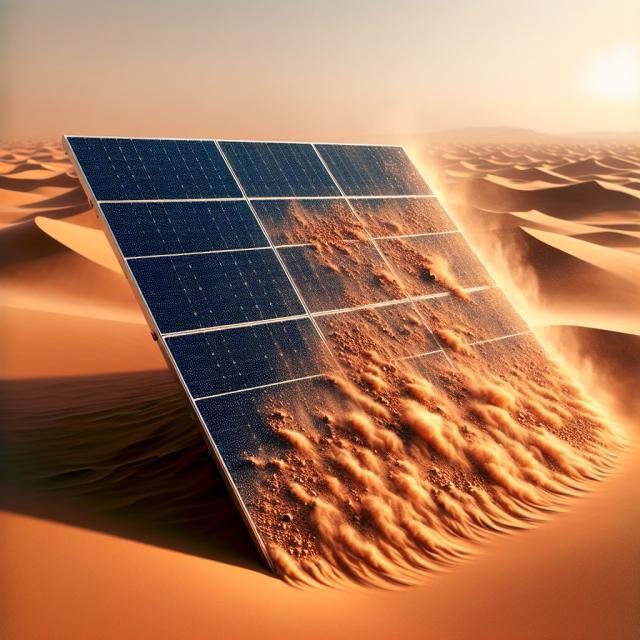Anomaly Solar Panel: (65, 0, 620, 587)
Surface Contaminant: (142, 103, 616, 573)
